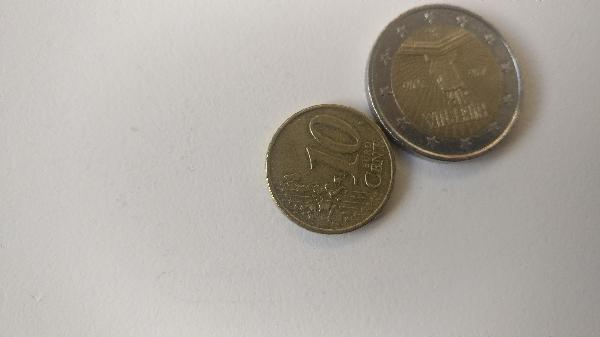Ten Cent: (265, 103, 393, 242)
Two Euro: (365, 6, 524, 161)
